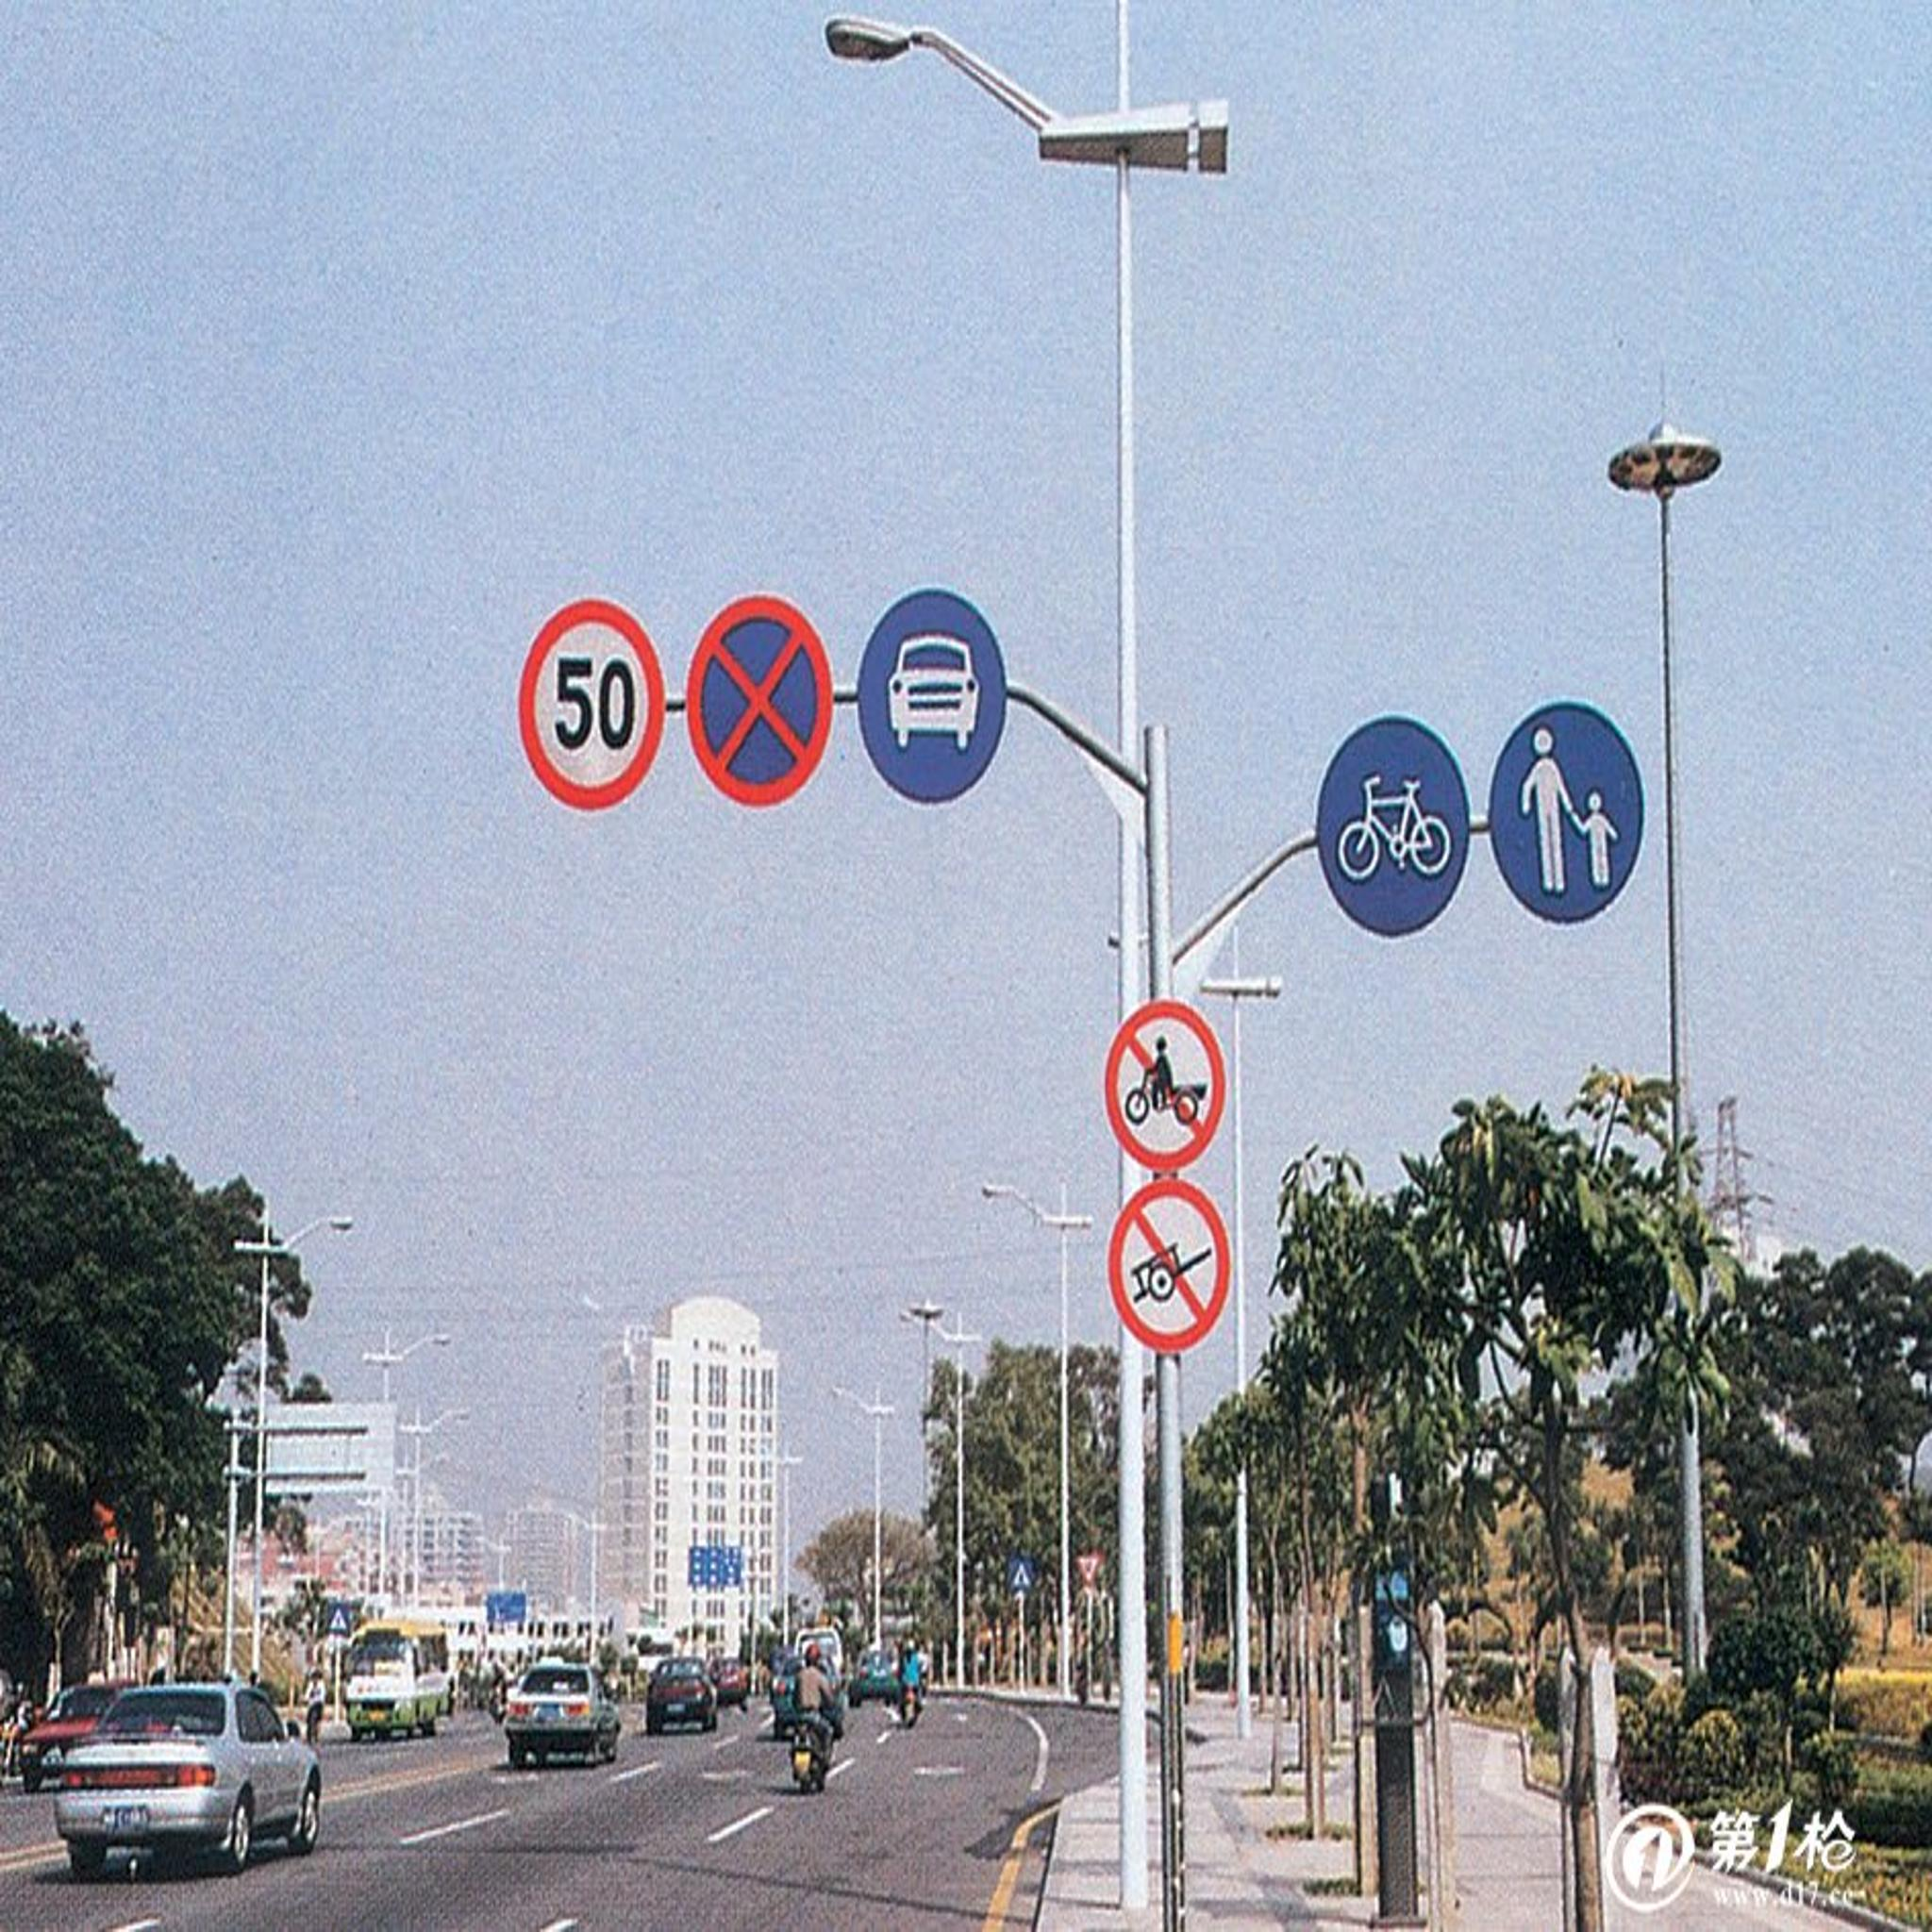i4: (855, 586, 1005, 807)
p15: (1108, 1178, 1228, 1352)
p16: (1106, 1001, 1223, 1175)
pl50: (517, 598, 667, 812)
pn: (686, 594, 832, 805)
